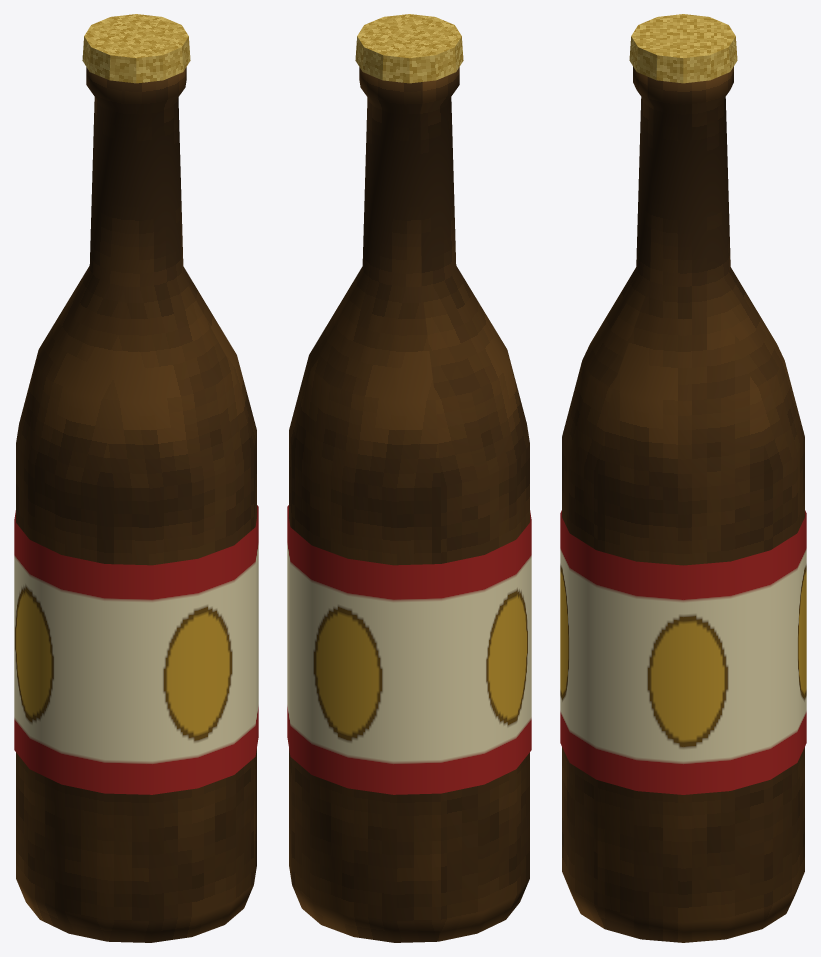
Rendered from botella.obj.
3 renders of one model, left to right at view 1: azimuth 30°, elevation 25°; view 2: azimuth 150°, elevation 25°; view 3: azimuth 270°, elevation 25°, orthographic.
Parts seen in each view (by area): view 1: Botella, Etiqueta, Corcholata; view 2: Botella, Etiqueta, Corcholata; view 3: Botella, Etiqueta, Corcholata.
Boxes of the visible parts, x1,y1,x2,y2 form: Botella: [16, 67, 256, 942]; Etiqueta: [14, 505, 258, 794]; Corcholata: [82, 14, 190, 83]; Botella: [289, 67, 529, 942]; Etiqueta: [287, 505, 531, 794]; Corcholata: [355, 14, 463, 83]; Botella: [562, 66, 804, 942]; Etiqueta: [560, 510, 806, 794]; Corcholata: [629, 14, 737, 83].
Bounding box in the file's own units: 0.073 × 0.281 × 0.073.
3 materials, 3 textured.
